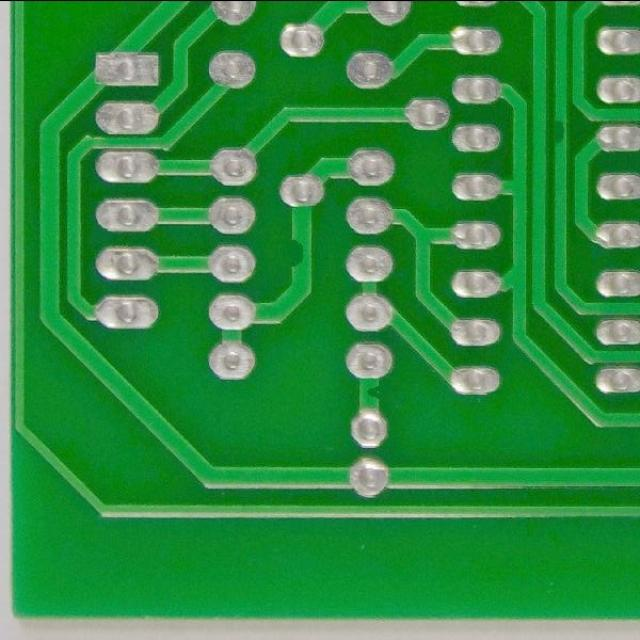MouseBite: (284, 230, 314, 273), (549, 112, 571, 150), (358, 380, 385, 404)
